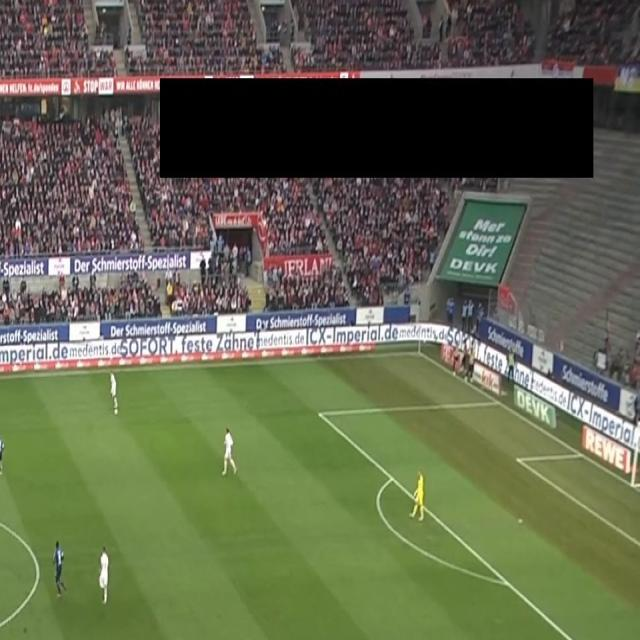ball: (113, 407, 119, 416)
